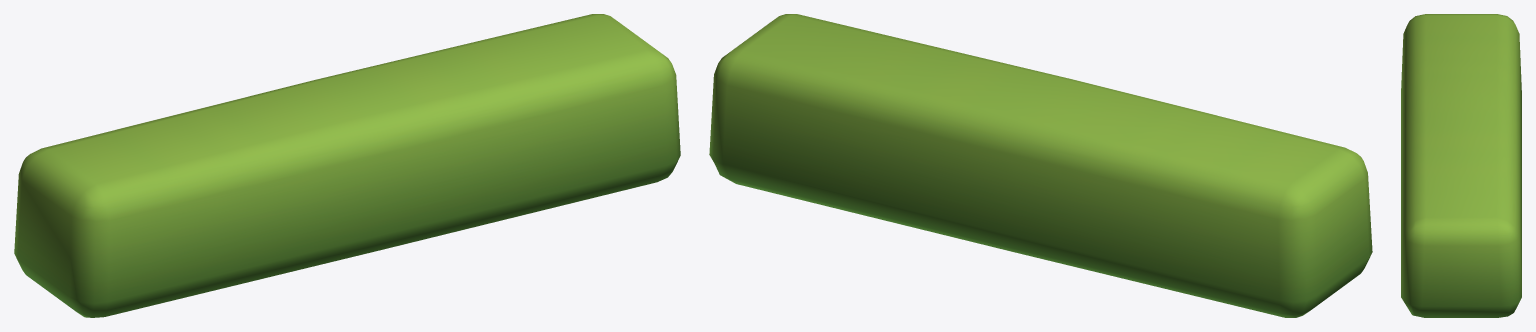
File: Bush_001.fbx
3 renders of one model, left to right at view 1: azimuth 30°, elevation 25°; view 2: azimuth 150°, elevation 25°; view 3: azimuth 270°, elevation 25°, orthographic. The views are drawn at different scales.
Visible parts, largest first — view 1: Bush-01; view 2: Bush-01; view 3: Bush-01.
Boxes of the visible parts, x1,y1,x2,y2 form: Bush-01: (14,14,680,317); Bush-01: (709,14,1372,317); Bush-01: (1401,14,1521,317).
Size of the model in its own units: 1264 by 290 by 271.
Materials: 1 (1 with a texture image).
